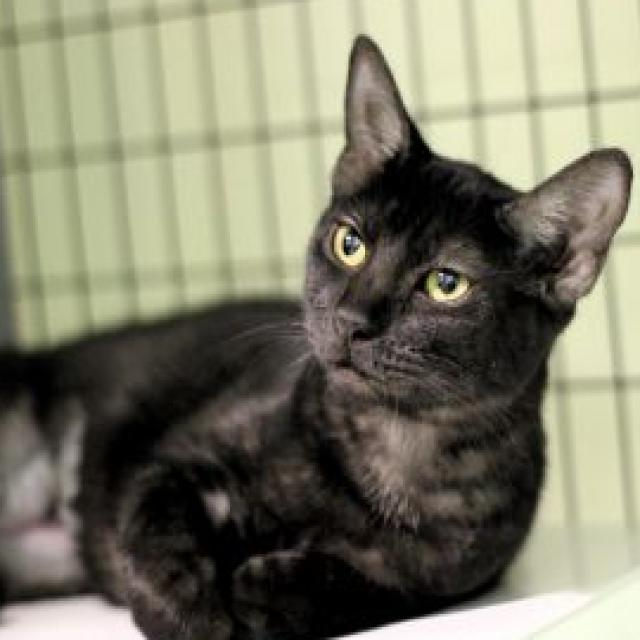Bombay: (0, 28, 635, 640)
